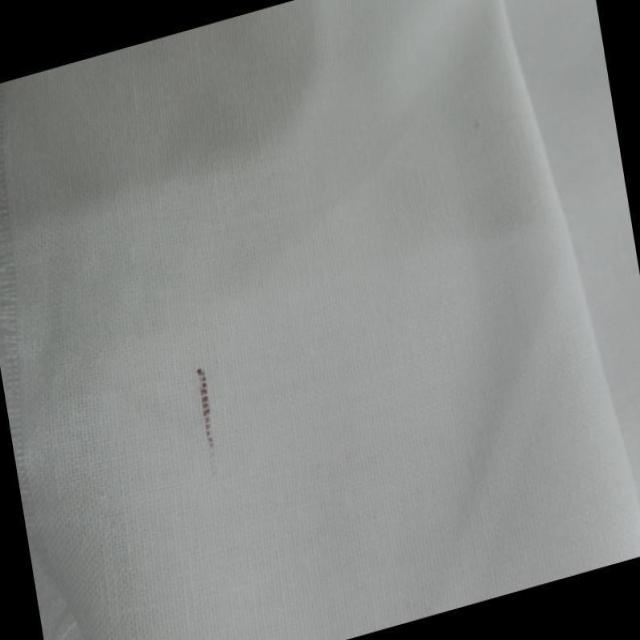contamination: (186, 358, 227, 462)
